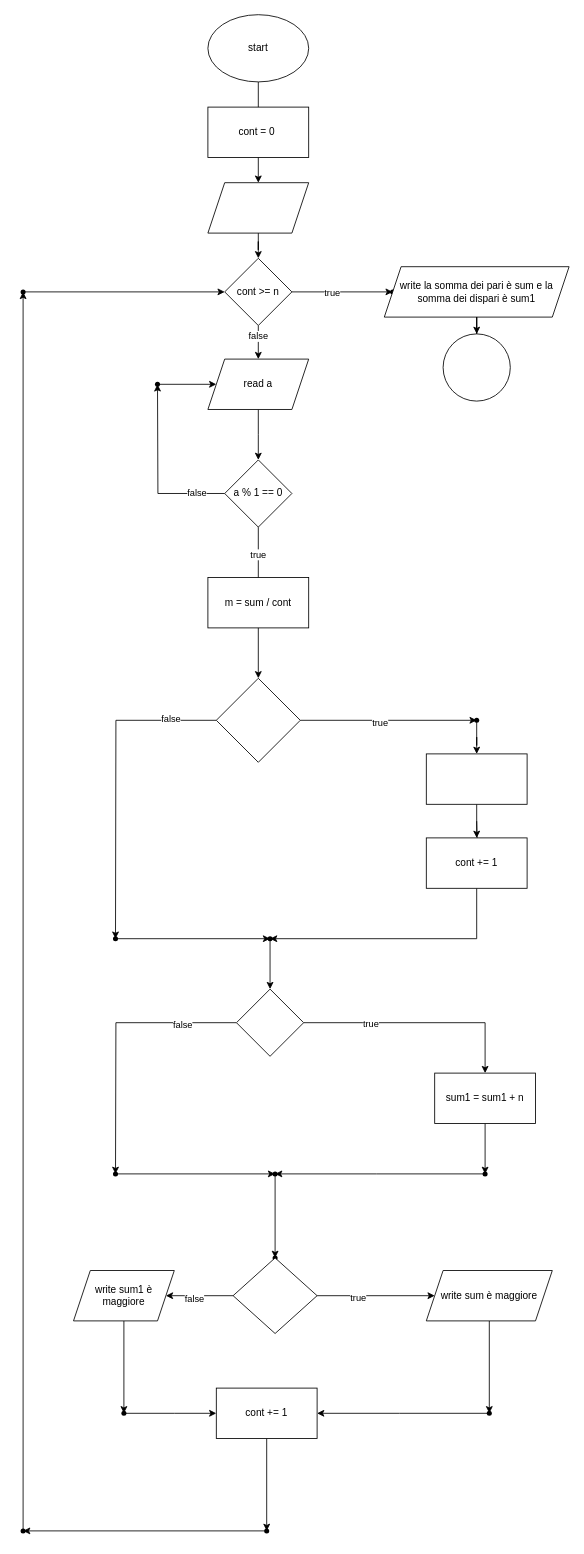
Image size: 584x1554. Some labels were removed from this diagram. Here are the shapes that lost their labels. From the top down, the centre of each, then its label:
At point 258,207: "read n".
At point 476,367: "end".
At point 257,719: "n % 2 == 0 and n > m".
At point 476,778: "sum = sum + n".
At point 270,1022: "n % 2 == 1 or n < m".
At point 274,1295: "sum > sum1".
